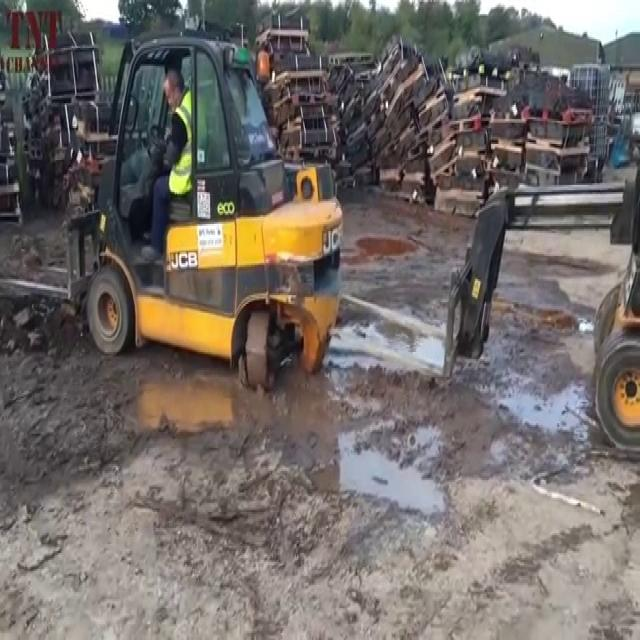Chariot elevateur: (64, 25, 350, 403)
